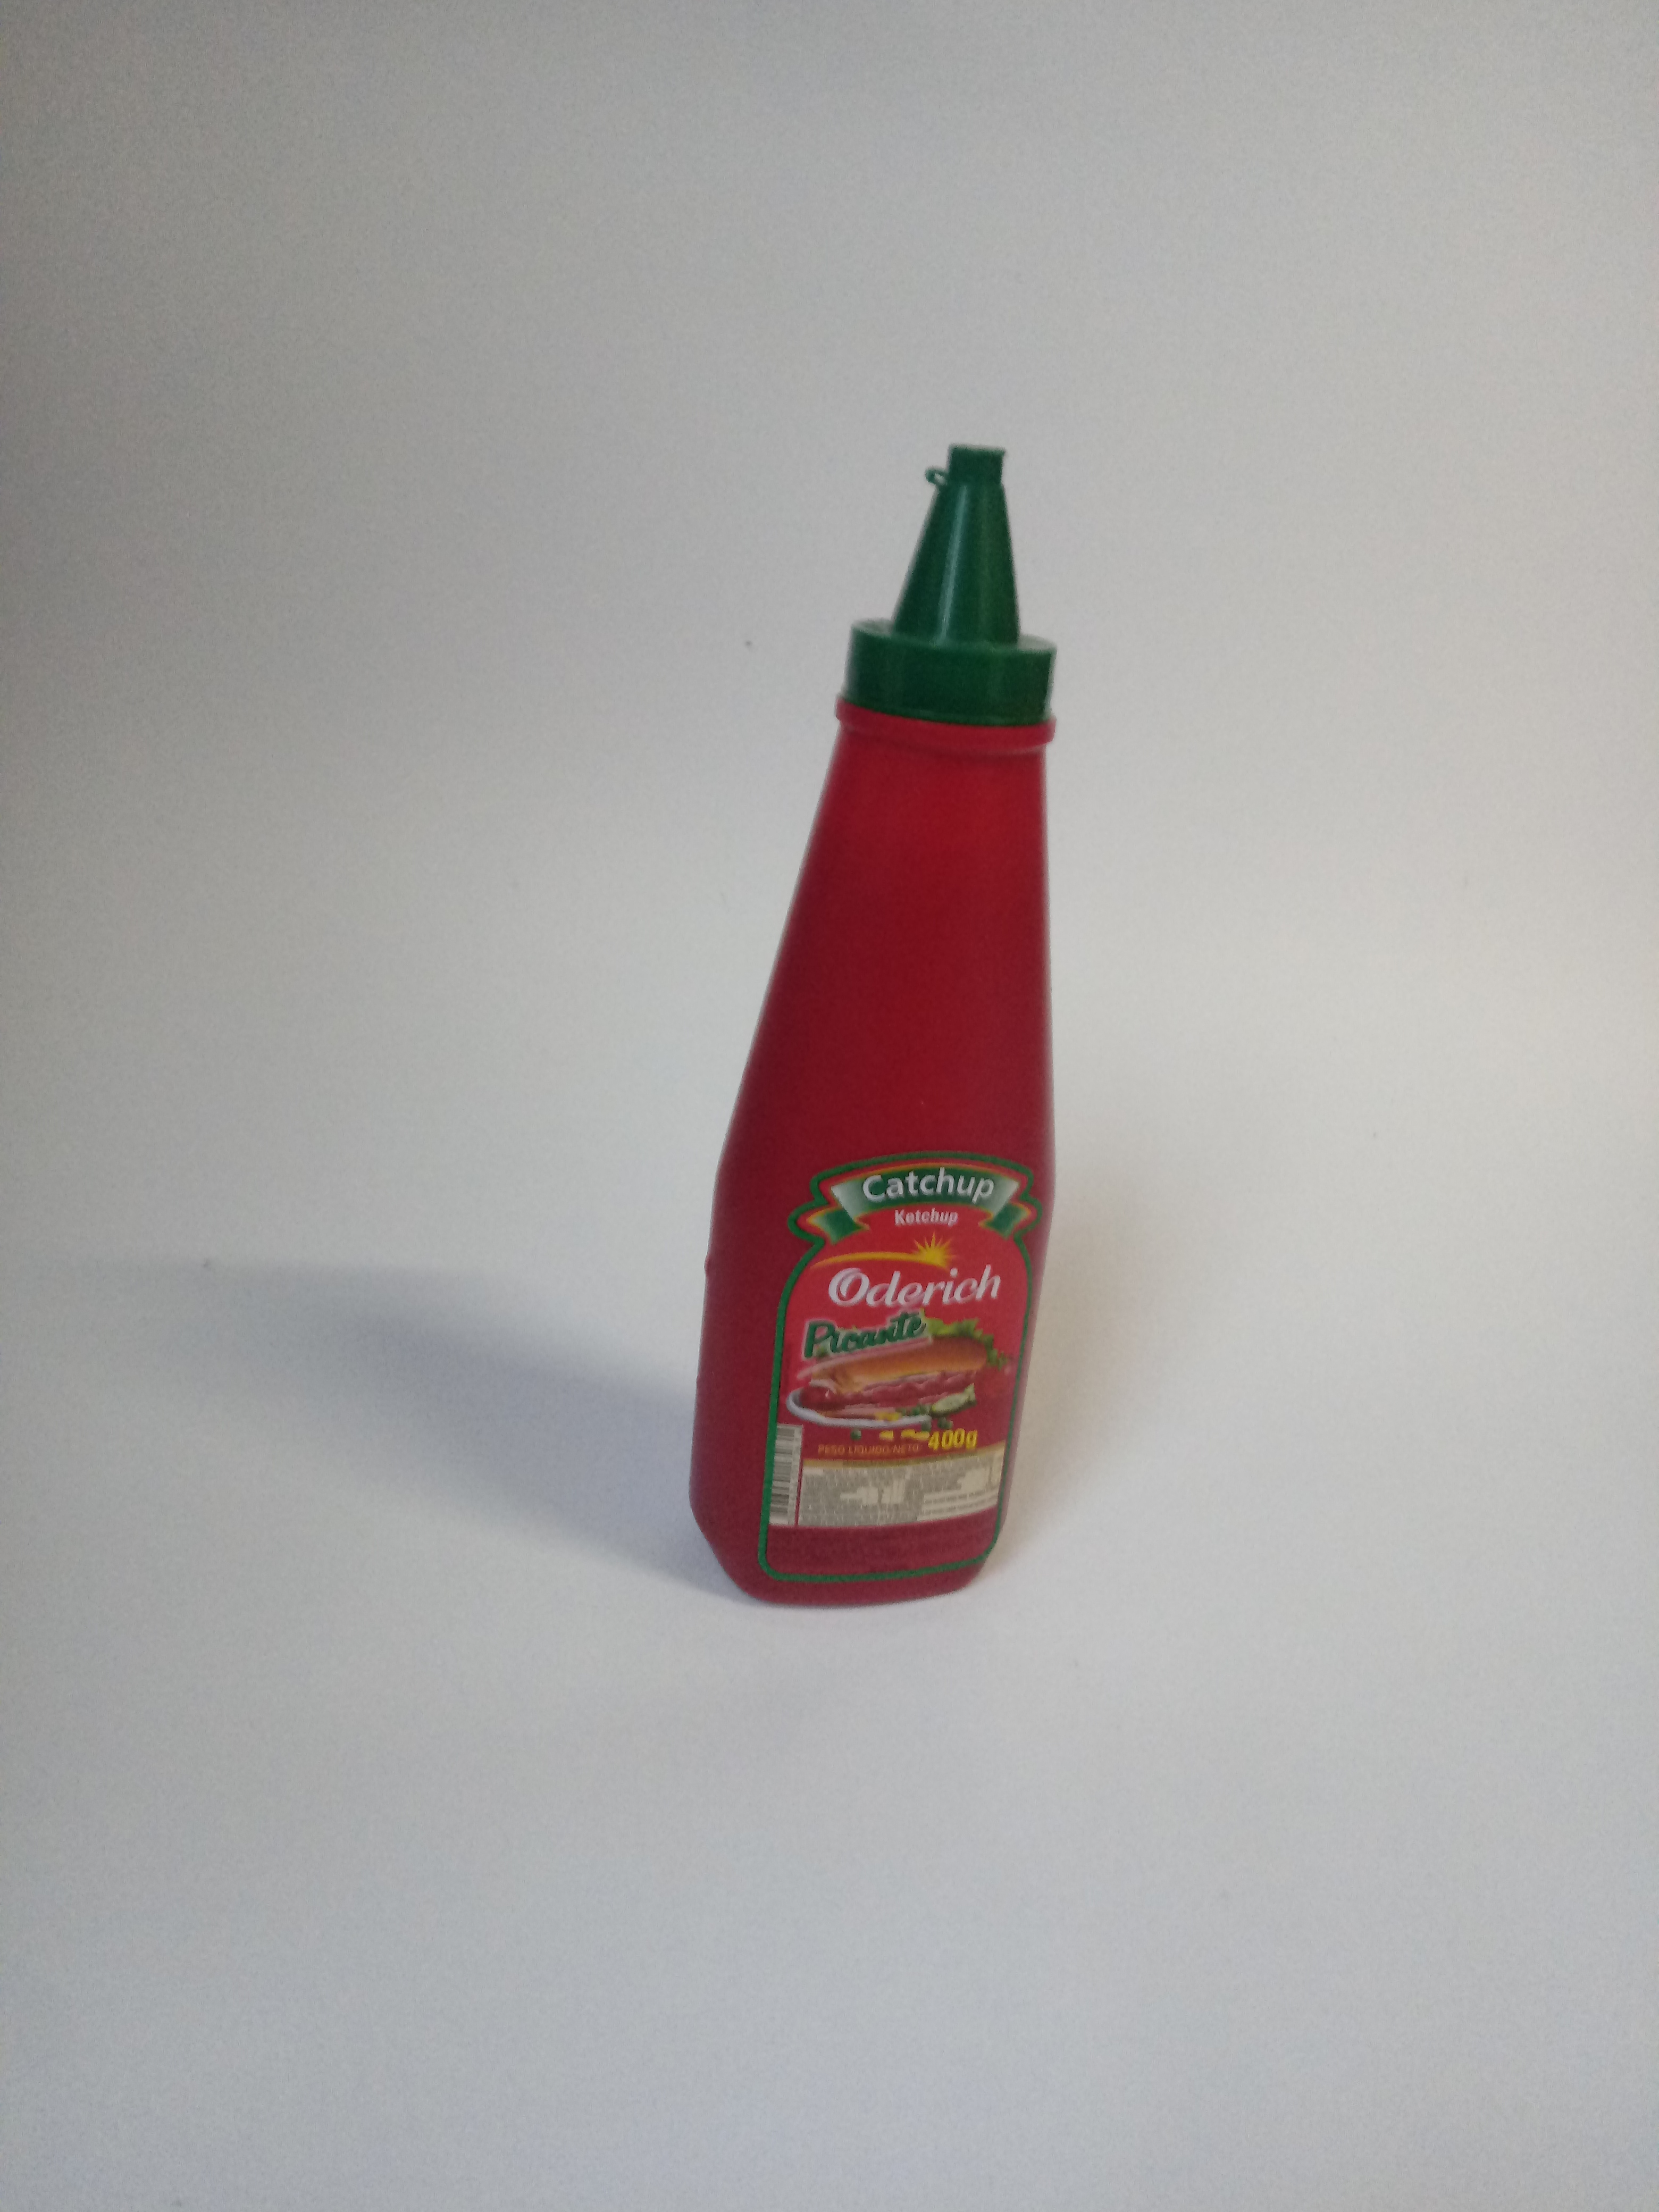catchup-oderich: (615, 341, 1129, 1649)
